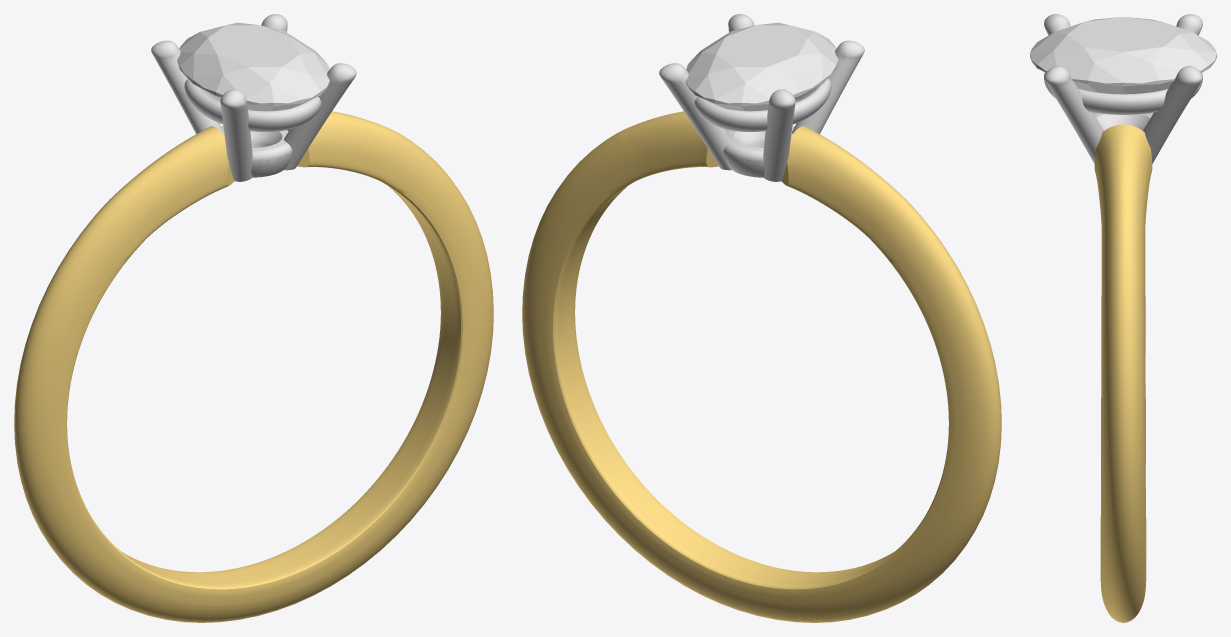
File: Tyler_Enright_Taper.glb
The picture shows the model from 3 angles, left to right: view 1: azimuth 30°, elevation 25°; view 2: azimuth 150°, elevation 25°; view 3: azimuth 270°, elevation 25°; orthographic projection.
Visible parts, largest first — view 1: Tyler YG for 3d model, Tyler PT for 3d model, Tyler dia for 3d model; view 2: Tyler YG for 3d model, Tyler PT for 3d model, Tyler dia for 3d model; view 3: Tyler YG for 3d model, Tyler dia for 3d model, Tyler PT for 3d model.
Part boxes in pixels (x1,y1,x2,y2): Tyler YG for 3d model: (14, 111, 493, 622); Tyler PT for 3d model: (151, 14, 356, 181); Tyler dia for 3d model: (177, 22, 329, 111); Tyler YG for 3d model: (522, 111, 1001, 622); Tyler PT for 3d model: (659, 14, 864, 181); Tyler dia for 3d model: (686, 22, 838, 111); Tyler YG for 3d model: (1094, 124, 1152, 622); Tyler dia for 3d model: (1030, 17, 1216, 94); Tyler PT for 3d model: (1044, 14, 1202, 163).
Size of the model in its own units: 21.54 by 24.59 by 7.4.
